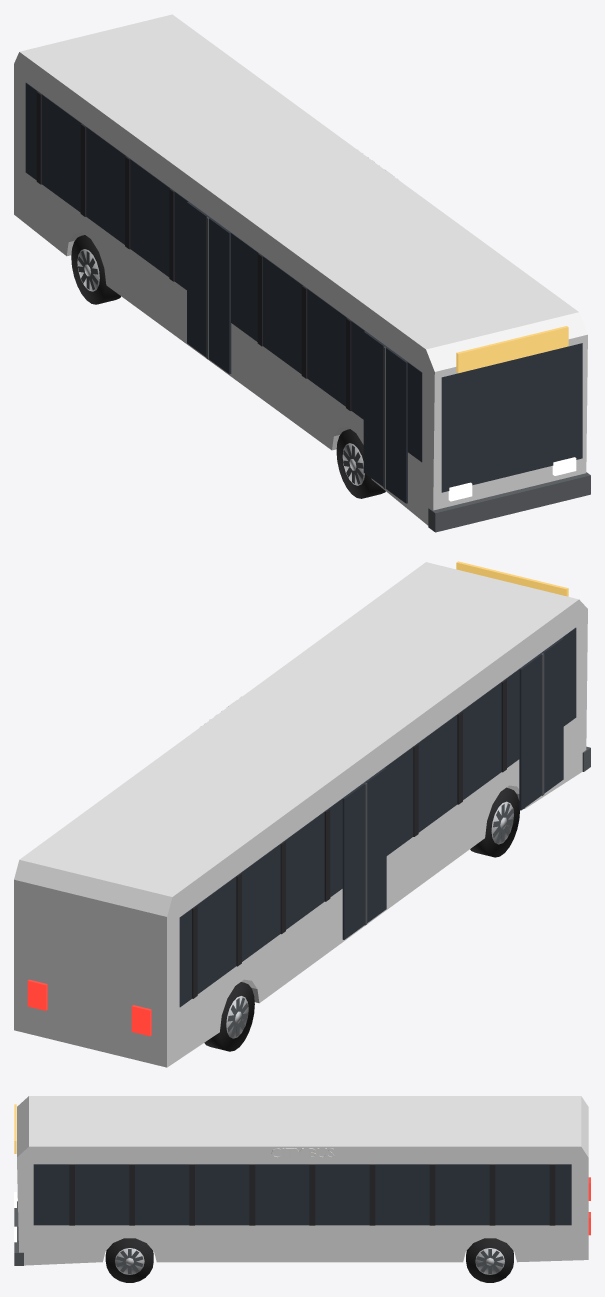
Rendered from bus.gltf.
3 renders of one model, top to bottom at view 1: azimuth 30°, elevation 25°; view 2: azimuth 150°, elevation 25°; view 3: azimuth 270°, elevation 25°, orthographic. The views are drawn at different scales.
Parts seen in each view (by area): view 1: bus, Wheel3, Wheel1; view 2: bus, Wheel3, Wheel1; view 3: bus, Wheel0, Wheel2.
Part boxes in pixels (left/top/right/bottom): bus: left=14, top=14, right=590, bottom=532; Wheel3: left=71, top=235, right=120, bottom=304; Wheel1: left=336, top=429, right=385, bottom=498; bus: left=14, top=561, right=590, bottom=1067; Wheel3: left=204, top=982, right=254, bottom=1051; Wheel1: left=470, top=787, right=519, bottom=857; bus: left=14, top=1096, right=590, bottom=1265; Wheel0: left=105, top=1238, right=153, bottom=1282; Wheel2: left=466, top=1238, right=513, bottom=1282.
Bounding box in the file's own units: 0.518 × 0.629 × 2.4.
10 materials, 1 textured.
